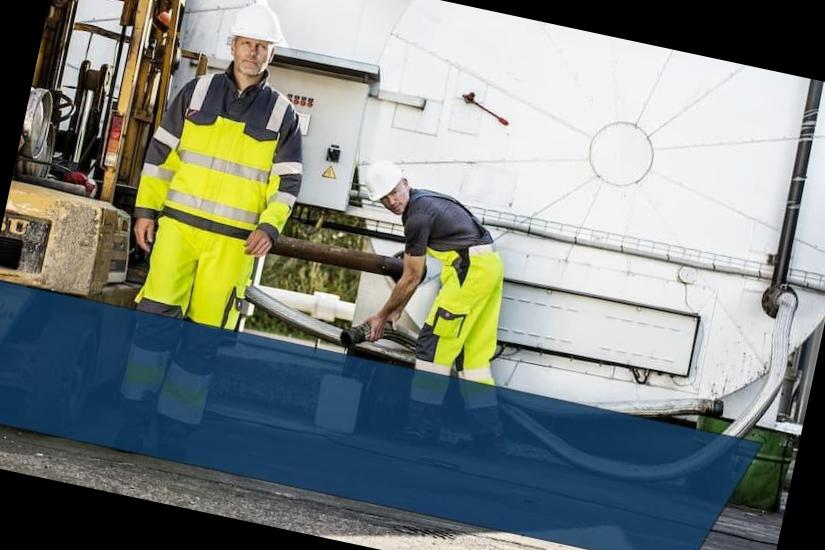Vest: (136, 64, 302, 262)
